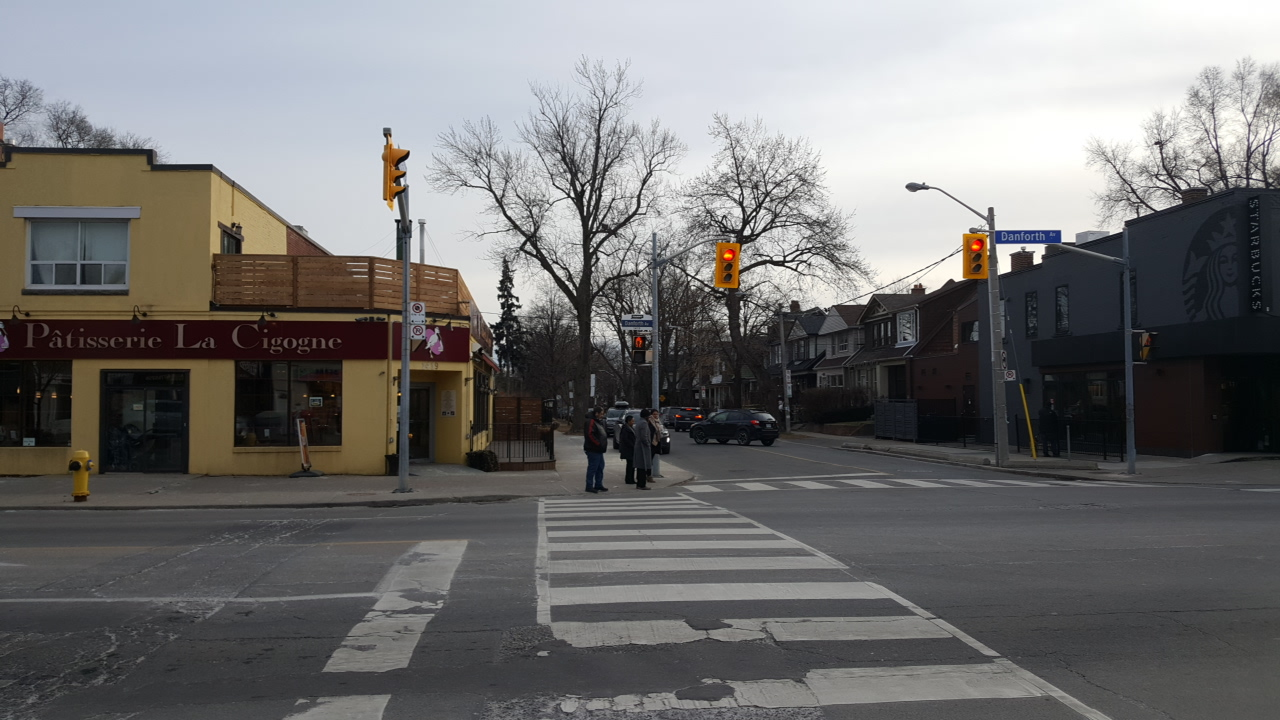light: (629, 332, 647, 367)
